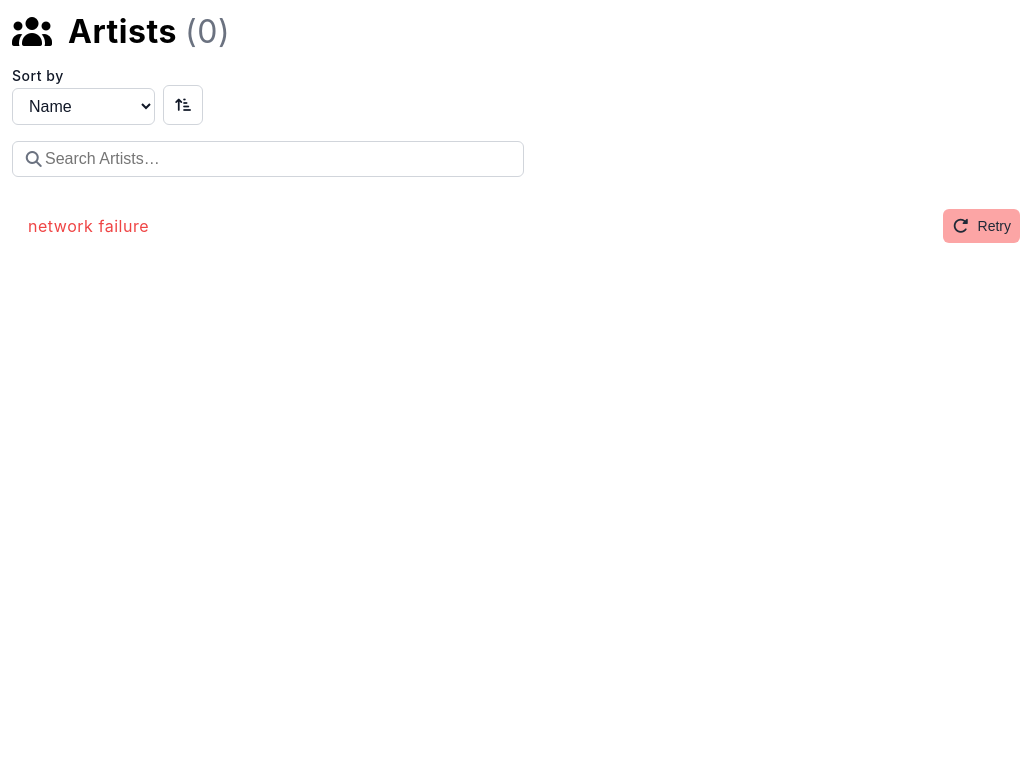
ArtistsView › shows an error banner with a retry button
Click the button named "Ascending" at (183,105), box [163,85,203,125]
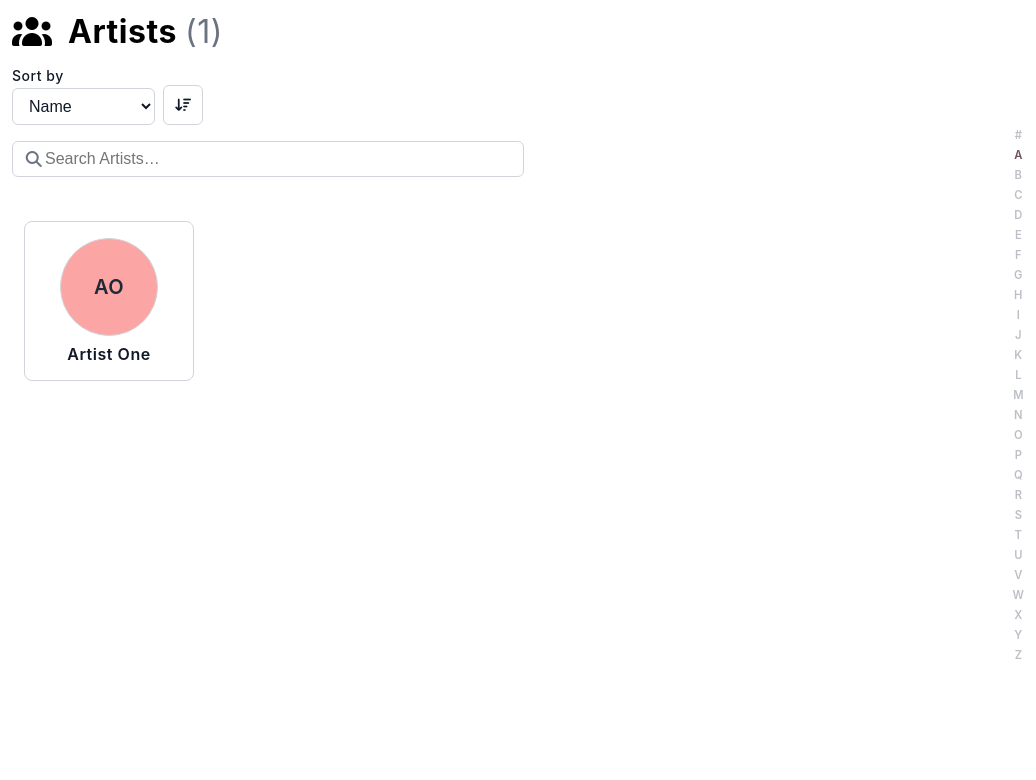
Check: the text "Artist One" is shown, box [67,344,151,364]
Check: the text "network failure" is gone
